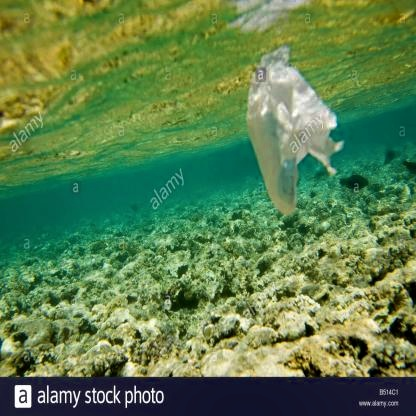pbag: (245, 45, 346, 218)
